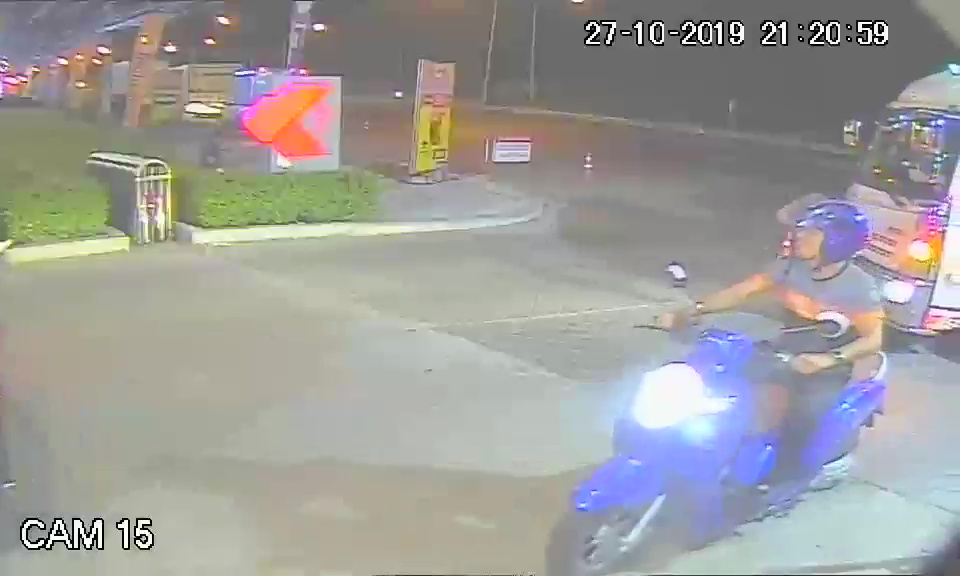motorcycle: (540, 324, 890, 567)
